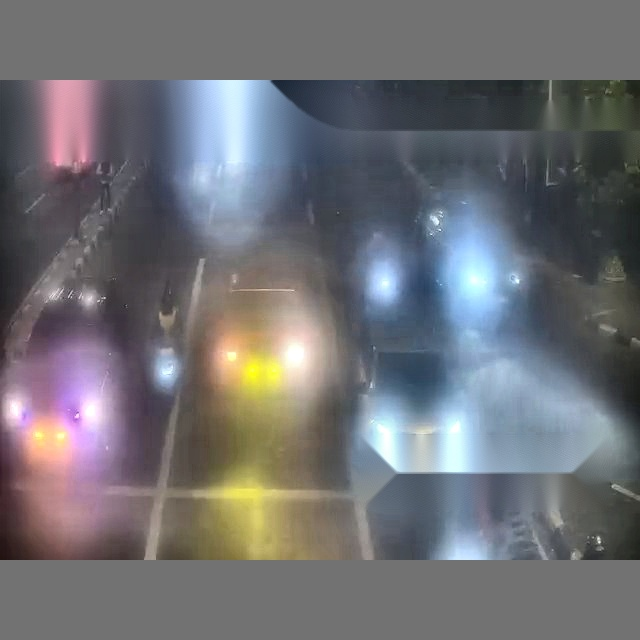Truk: (40, 80, 104, 176)
